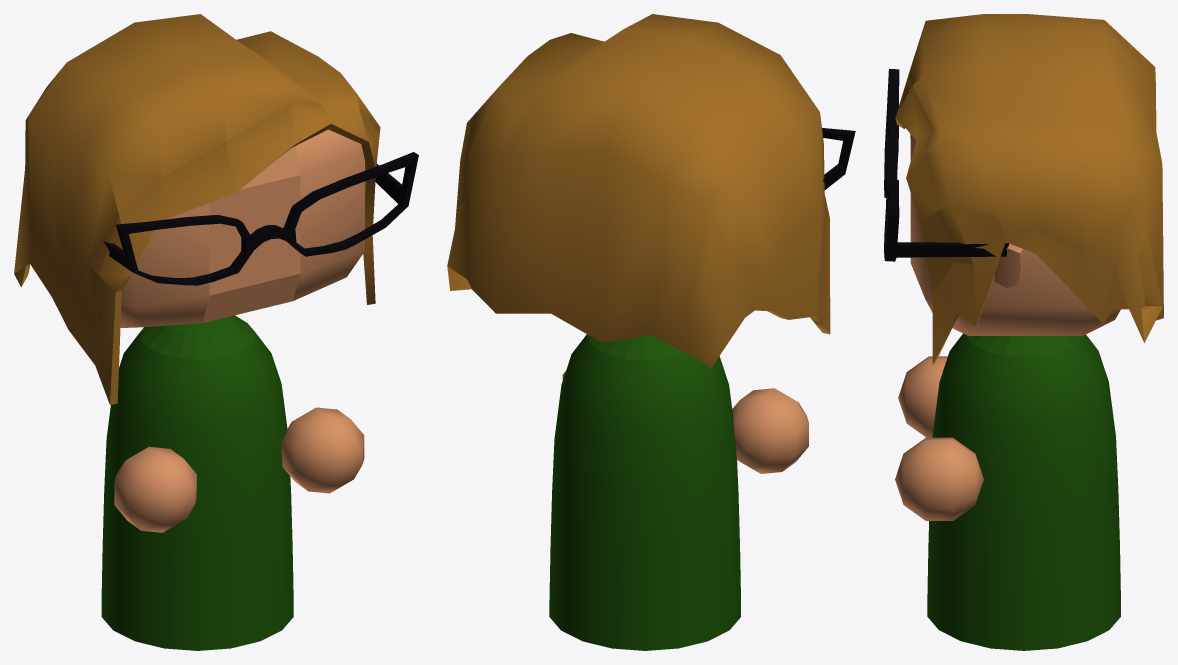
Rendered from Karen_low.fbx.
3 renders of one model, left to right at view 1: azimuth 30°, elevation 25°; view 2: azimuth 150°, elevation 25°; view 3: azimuth 270°, elevation 25°, orthographic.
Parts seen in each view (by area): view 1: Plane001, Cylinder001, Box001, Box004, Sphere001, Sphere002; view 2: Plane001, Cylinder001, Sphere002, Box004; view 3: Plane001, Cylinder001, Box001, Sphere001, Box004, Sphere002, Box003.
Boxes of the visible parts, <box> form: Plane001: <box>14,14,380,404</box>; Cylinder001: <box>101,315,293,650</box>; Box001: <box>120,129,364,327</box>; Box004: <box>103,152,418,285</box>; Sphere001: <box>281,407,364,493</box>; Sphere002: <box>114,446,196,532</box>; Plane001: <box>447,14,830,368</box>; Cylinder001: <box>549,334,740,650</box>; Sphere002: <box>732,388,808,473</box>; Box004: <box>822,128,855,189</box>; Plane001: <box>895,14,1163,364</box>; Cylinder001: <box>927,333,1120,650</box>; Box001: <box>910,134,1120,335</box>; Sphere001: <box>895,437,983,520</box>; Box004: <box>884,69,1008,261</box>; Sphere002: <box>898,356,947,437</box>; Box003: <box>994,244,1024,287</box>.
Bounding box in the file's own units: 0.0495 × 0.0399 × 0.0895.
